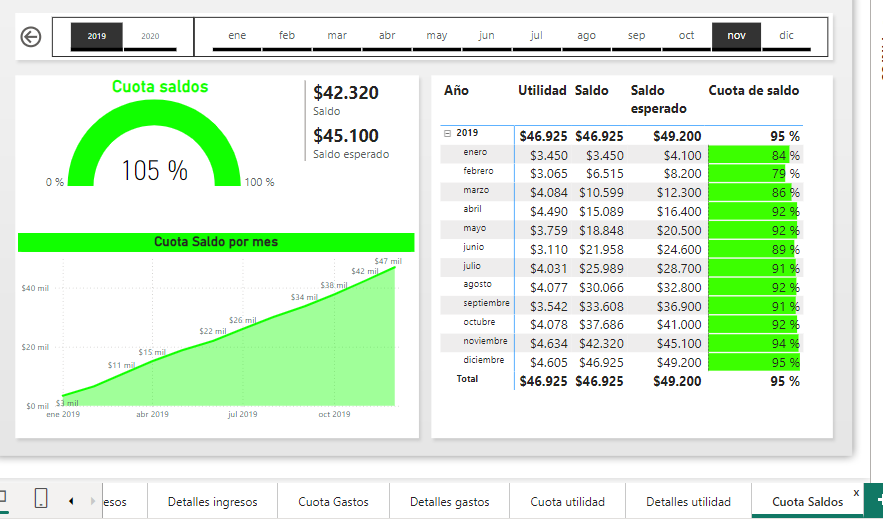

The dashboard page shown, as its layout file describes it:
{"tool":"powerbi","page":{"name":"Cuota Saldos","canvas":[1280,720],"ordinal":8},"visuals":[{"type":"slicer","fields":{"Values":["Calendarios 20192020.Fecha.Variación.Jerarquía de fechas.Año"]},"box":[110.6,59.5,202.7,56.7],"z":0},{"type":"slicer","fields":{"Values":["Calendarios 20192020.Primeros caracteres"]},"box":[313.2,59.5,907.1,56.7],"z":1000},{"type":"gauge","title":"Cuota saldos","fields":{"Y":["Cuota %.Cuota gastos"]},"box":[62.4,146,403.9,165.8],"z":2000},{"type":"multiRowCard","fields":{"Values":["Cuota %.Saldo","Cuota %.Saldo esperado"]},"box":[466.3,146,161.6,155.9],"z":3000},{"type":"actionButton","box":[59.5,68,41.1,39.7],"z":4000},{"type":"areaChart","title":"Cuota Saldo por mes","fields":{"Category":["Calendarios 20192020.Fecha"],"Y":["Cuota %.Saldo"]},"box":[61.8,369,566.7,277.2],"z":5000},{"type":"pivotTable","fields":{"Rows":["Calendarios 20192020.Fecha.Variación.Jerarquía de fechas.Año","Calendarios 20192020.Fecha.Variación.Jerarquía de fechas.Mes"],"Values":["Finanzas.Utilidad","Cuota %.Saldo","Cuota %.Saldo esperado","Cuota %.Cuota de saldo"]},"box":[660.3,146.5,559.7,499.6],"z":6000}]}

Visuals, with their boxes on the page's 1280x720 design canvas (x1, y1, x2, y2). These are canvas units, not pixel positions in the 883x519 screenshot, which may show the page scaled, cropped or inside an application window:
slicer - Calendarios 20192020.Fecha.Variación.Jerarquía de fechas.Año: x1=111, y1=60, x2=313, y2=116
slicer - Calendarios 20192020.Primeros caracteres: x1=313, y1=60, x2=1220, y2=116
"Cuota saldos" gauge: x1=62, y1=146, x2=466, y2=312
multiRowCard - Cuota %.Saldo x Cuota %.Saldo esperado: x1=466, y1=146, x2=628, y2=302
actionButton: x1=60, y1=68, x2=101, y2=108
"Cuota Saldo por mes" areaChart: x1=62, y1=369, x2=628, y2=646
pivotTable - Calendarios 20192020.Fecha.Variación.Jerarquía de fechas.Año x Calendarios 20192020.Fecha.Variación.Jerarquía de fechas.Mes: x1=660, y1=146, x2=1220, y2=646
